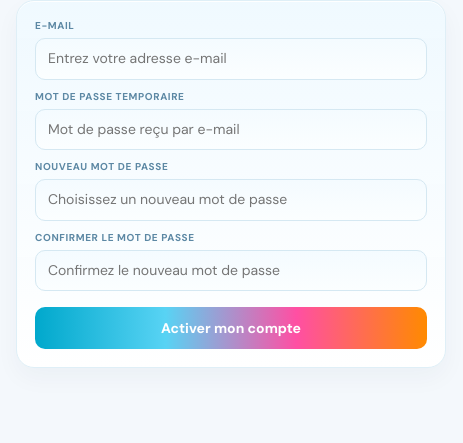
Test: ActivateAccount › affiche une erreur si les mots de passe ne correspondent pas, sans appeler l'API
In the field labelled "E-mail": (231, 59) left=35, top=38, right=427, bottom=80, type "user@exemple.com"
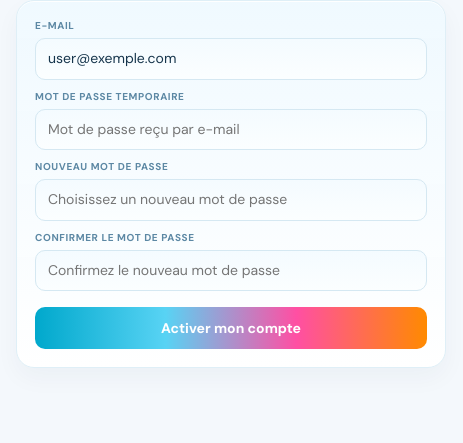
In the field labelled "Mot de passe temporaire": (231, 129) left=35, top=109, right=427, bottom=150, type "temp123"
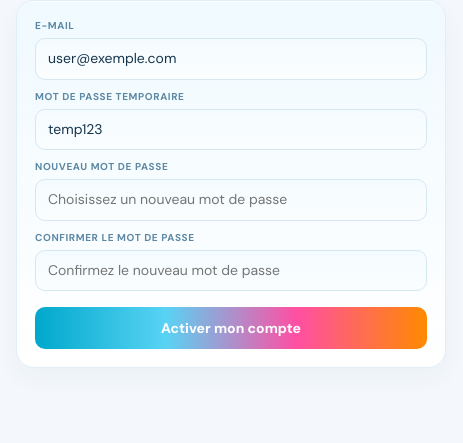
In the password field labelled "Nouveau mot de passe": (231, 200) left=35, top=179, right=427, bottom=221, type "NewPass123"
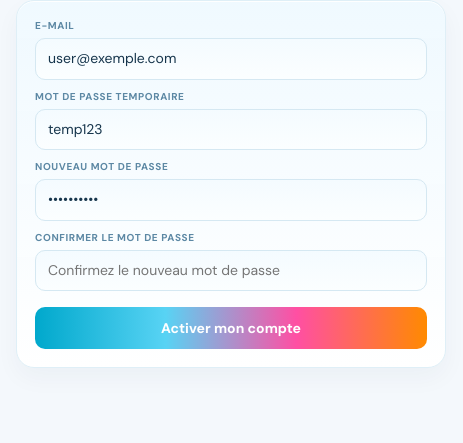
In the password field labelled "Confirmer le mot de passe": (231, 271) left=35, top=250, right=427, bottom=291, type "AutreChose"
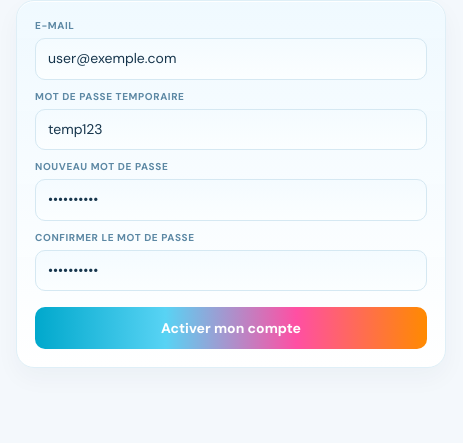
Click the button "Activer mon compte": (231, 328) left=35, top=307, right=427, bottom=349
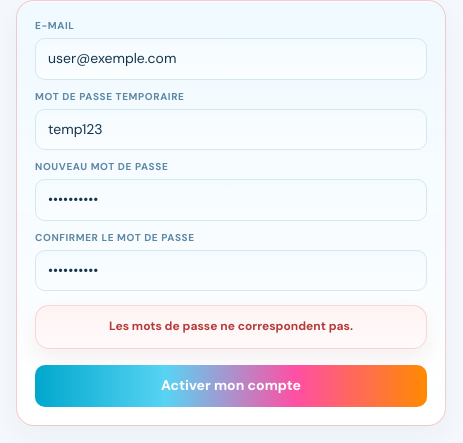
Result: the text "Les mots de passe ne correspondent pas." is shown at left=35, top=305, right=427, bottom=349
